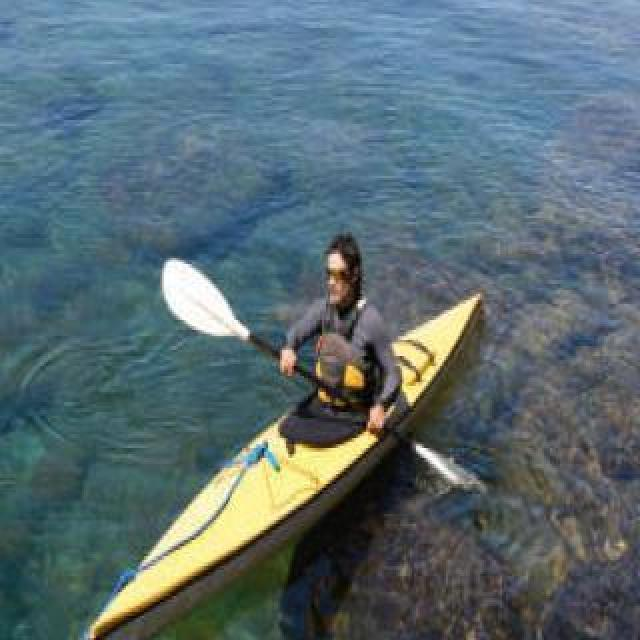kayak: (84, 294, 483, 640)
